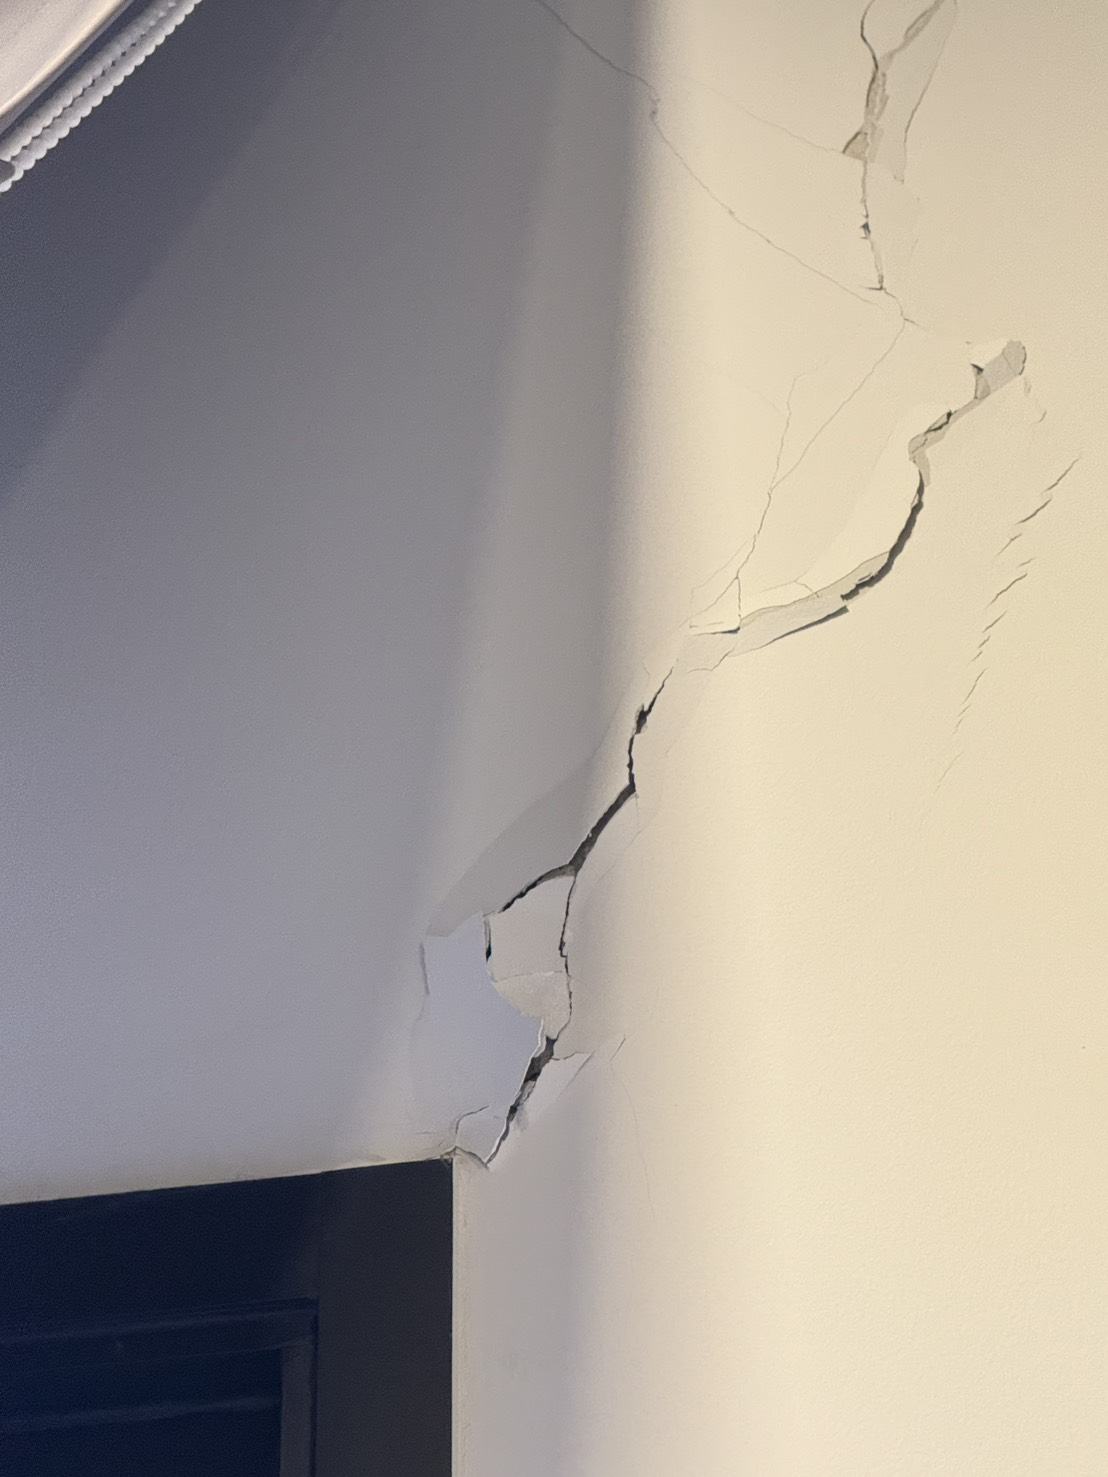Medium: (450, 310, 993, 1137)
